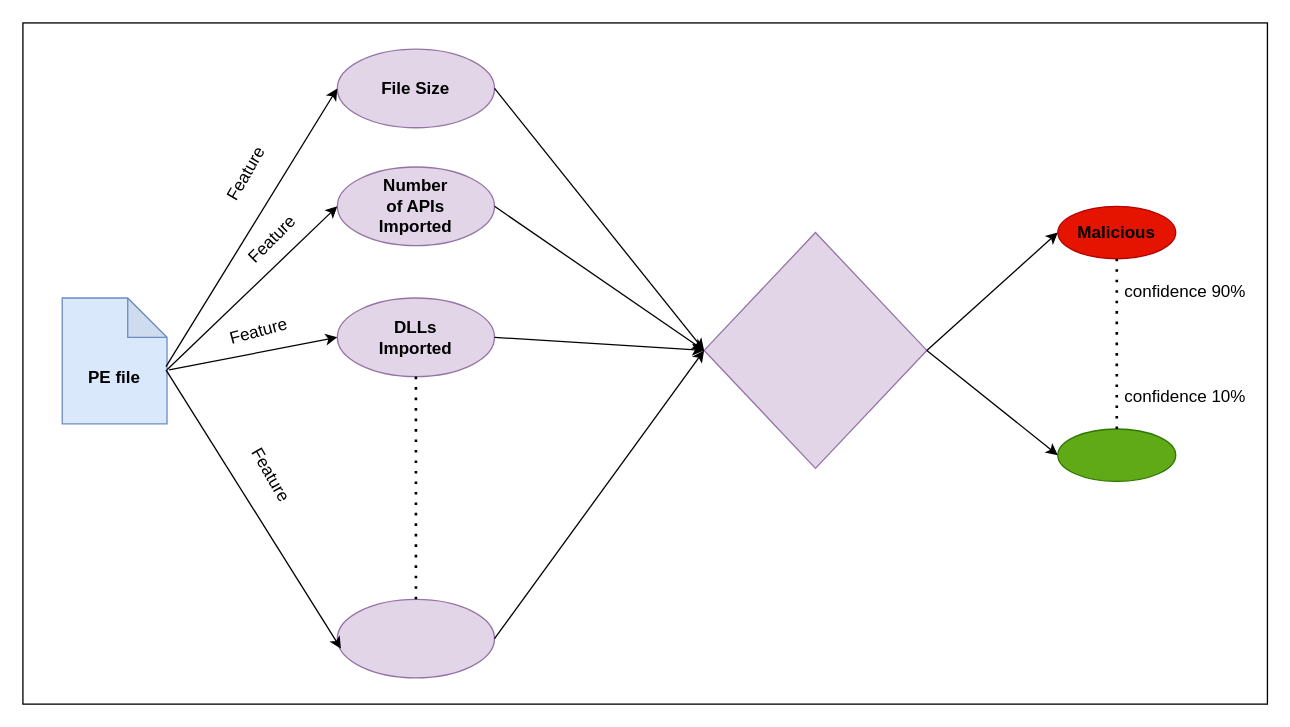
Some shapes in this 1290 by 727 pixel diagram are drawn without their labels. Each missing label, with the box of its shape:
Benign: (1057, 428, 1176, 481)
Machine Learning Algorithm: (703, 231, 927, 468)
Valid Cheksum: (336, 598, 495, 678)
